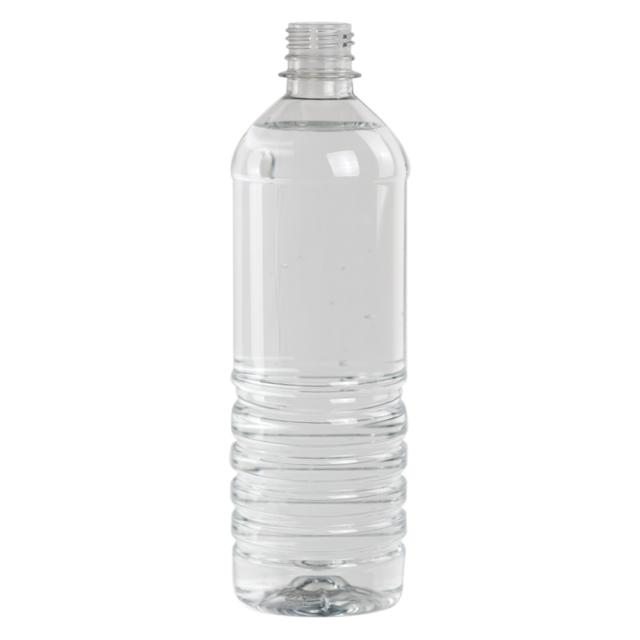plastic_bottle: (228, 20, 410, 618)
